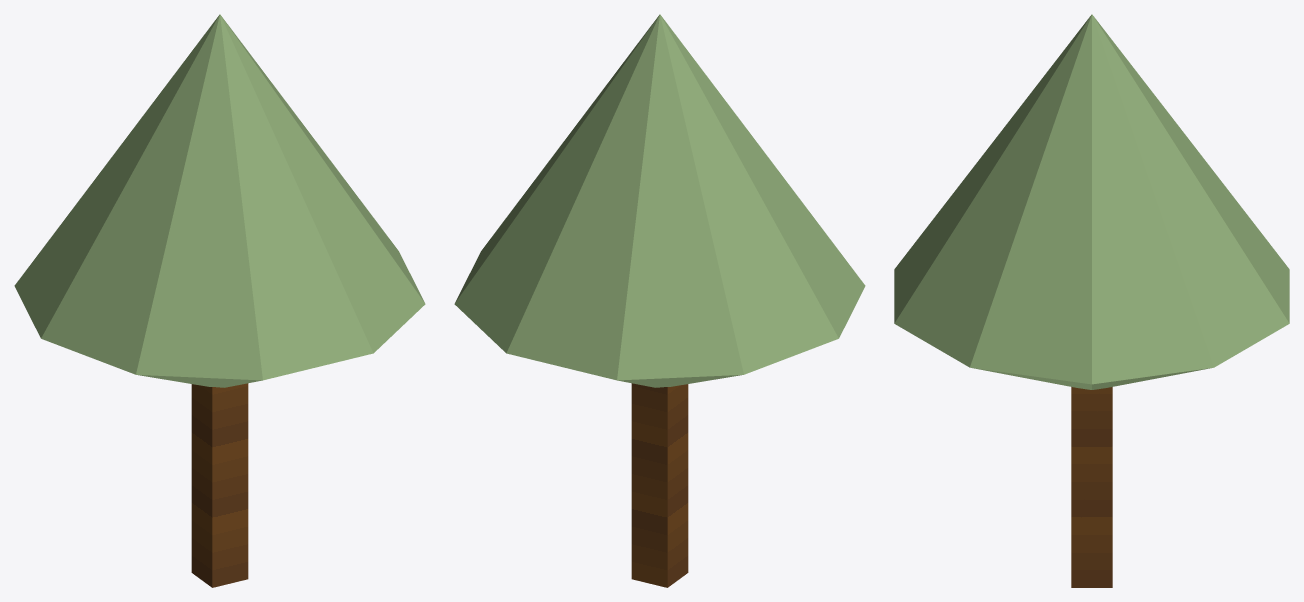
File: tree.glb
3 views of the same model, side by side, from view 1: azimuth 30°, elevation 25°; view 2: azimuth 150°, elevation 25°; view 3: azimuth 270°, elevation 25° (orthographic).
Visible parts, largest first — view 1: Crown, Trunk; view 2: Crown, Trunk; view 3: Crown, Trunk.
Boxes of the visible parts, left/top/right/bottom form: Crown: left=14, top=14, right=425, bottom=387; Trunk: left=191, top=383, right=248, bottom=587; Crown: left=454, top=14, right=865, bottom=387; Trunk: left=631, top=383, right=688, bottom=587; Crown: left=894, top=14, right=1289, bottom=389; Trunk: left=1071, top=387, right=1112, bottom=587.
Size of the model in its own units: 4 by 6 by 3.8.
3 materials, 1 textured.
